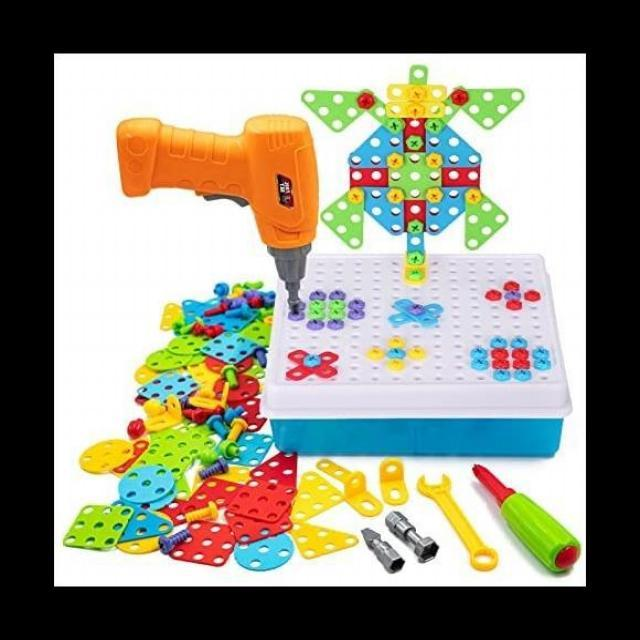drill: (116, 115, 320, 314)
